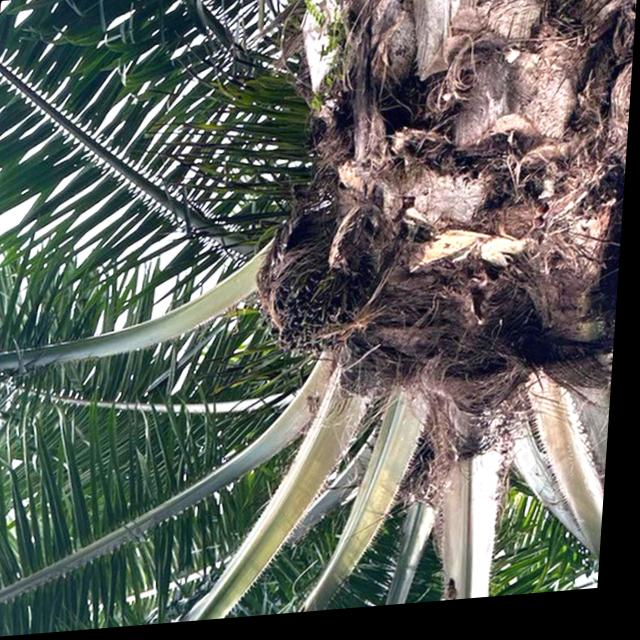unripe: (250, 212, 382, 371)
